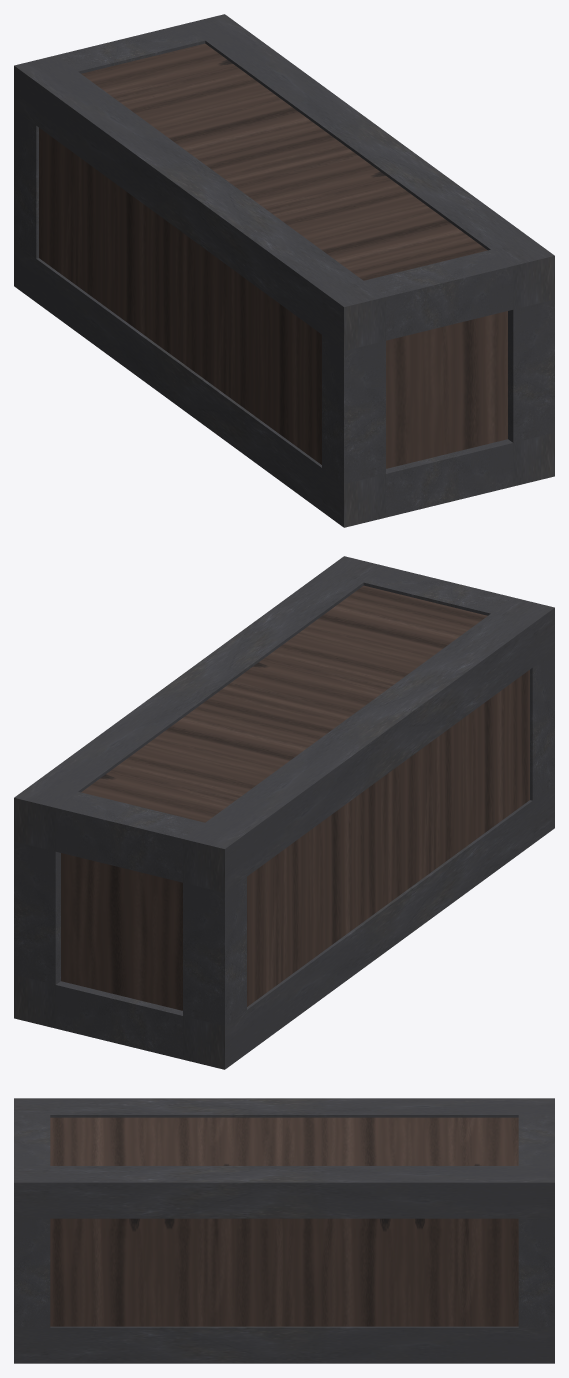
File: ScatterBoxB04.fbx
The picture shows the model from 3 angles, top to bottom: view 1: azimuth 30°, elevation 25°; view 2: azimuth 150°, elevation 25°; view 3: azimuth 270°, elevation 25°; orthographic projection. The views are drawn at different scales.
Visible parts, largest first — view 1: ScatterBoxB04; view 2: ScatterBoxB04; view 3: ScatterBoxB04.
Part boxes in pixels (x1,y1,x2,y2): ScatterBoxB04: [14, 14, 554, 527]; ScatterBoxB04: [14, 556, 554, 1069]; ScatterBoxB04: [14, 1098, 554, 1363].
Bounding box in the file's own units: 82.2 × 82.2 × 223.
